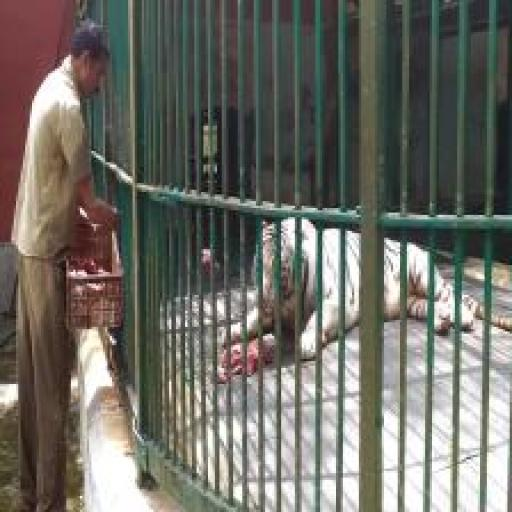Tiger: (219, 212, 511, 366)
